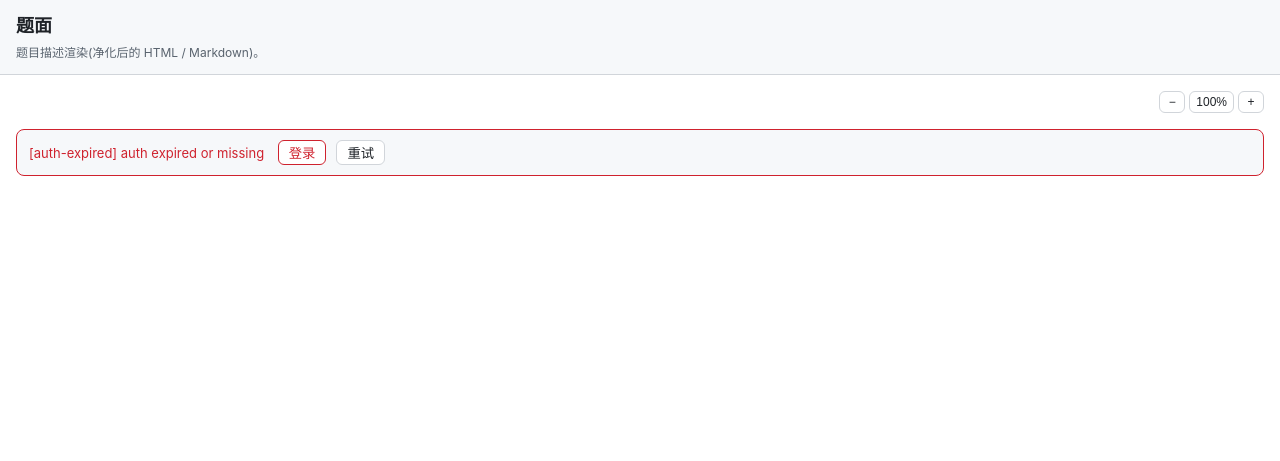
Test: problem-view login entry (1.0.x auth:login) › shows Login button on auth-expired statement error, sends auth:login and refetches on success
The width and height of the screenshot is (1280, 461).
Expected: the message "[auth-expired] auth expired or missing 登录 重试" is shown, [16,129,1264,176]
Expected: the message with class "state--error" shows "auth-expired", [29,145,268,161]
Step 1. Click the button with class "state__login" → (302, 152), box [278,140,326,165]
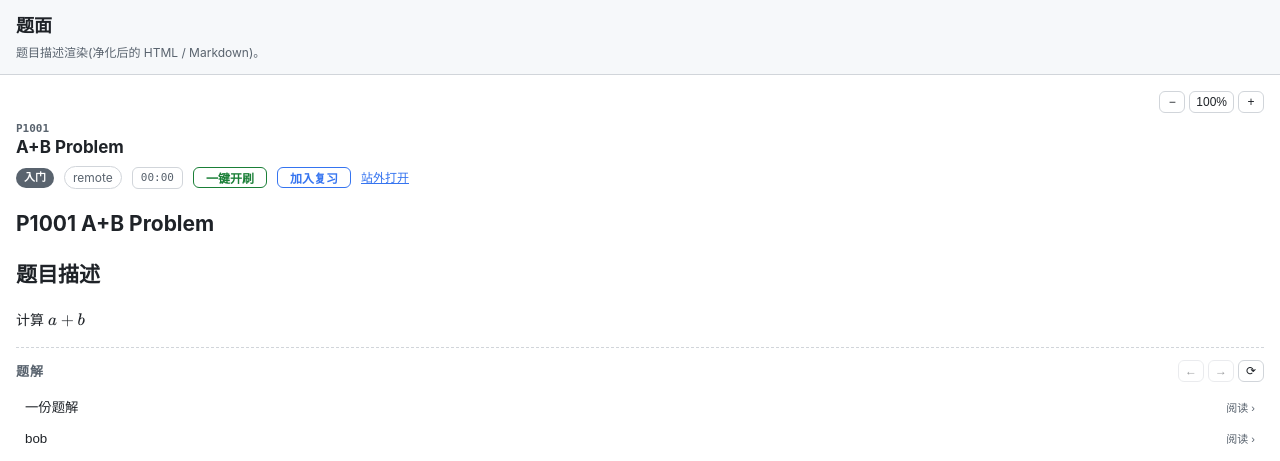
Expected: the element with class "statement" shows "A+B Problem", [16,211,214,236]
